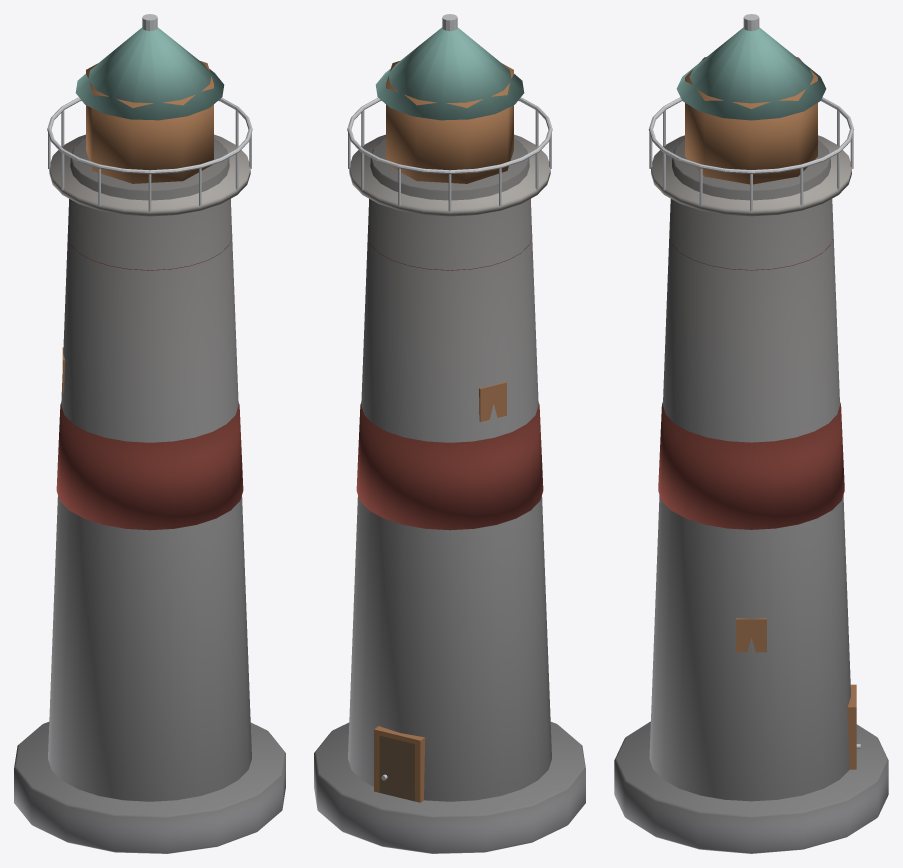
The model's file is LL_Lighthouse_Tower.fbx.
3 views of the same model, side by side, from view 1: azimuth 30°, elevation 25°; view 2: azimuth 150°, elevation 25°; view 3: azimuth 270°, elevation 25° (orthographic).
Visible parts, largest first — view 1: LL_Tower_White, LL_Lighthouse_Base, LL_Tower_RedBand, LL_Roof, LL_LensRoom_Frame, LL_Balcony_Floor, LL_Balcony_Rail_Top; view 2: LL_Tower_White, LL_Lighthouse_Base, LL_Tower_RedBand, LL_Roof, LL_LensRoom_Frame, LL_Balcony_Floor, LL_Door, LL_Balcony_Rail_Top, LL_Door_Frame, LL_Window_1_Frame; view 3: LL_Tower_White, LL_Lighthouse_Base, LL_Tower_RedBand, LL_Roof, LL_LensRoom_Frame, LL_Balcony_Floor, LL_Balcony_Rail_Top, LL_Window_0_Frame, LL_Door_Frame.
Part boxes in pixels (<box>): LL_Tower_White: <box>48,138,251,801</box>; LL_Lighthouse_Base: <box>14,722,285,853</box>; LL_Tower_RedBand: <box>56,403,243,530</box>; LL_Roof: <box>75,27,224,120</box>; LL_LensRoom_Frame: <box>86,61,213,183</box>; LL_Balcony_Floor: <box>49,134,250,216</box>; LL_Balcony_Rail_Top: <box>47,97,252,174</box>; LL_Tower_White: <box>348,138,551,801</box>; LL_Lighthouse_Base: <box>314,722,585,853</box>; LL_Tower_RedBand: <box>356,403,543,530</box>; LL_Roof: <box>375,27,524,120</box>; LL_LensRoom_Frame: <box>386,61,513,183</box>; LL_Balcony_Floor: <box>349,134,550,216</box>; LL_Door: <box>379,736,414,801</box>; LL_Balcony_Rail_Top: <box>347,97,552,174</box>; LL_Door_Frame: <box>374,726,425,802</box>; LL_Window_1_Frame: <box>479,381,506,421</box>; LL_Tower_White: <box>649,140,850,801</box>; LL_Lighthouse_Base: <box>614,721,888,853</box>; LL_Tower_RedBand: <box>658,402,844,529</box>; LL_Roof: <box>676,27,826,120</box>; LL_LensRoom_Frame: <box>685,57,817,184</box>; LL_Balcony_Floor: <box>651,135,851,216</box>; LL_Balcony_Rail_Top: <box>648,97,854,173</box>; LL_Window_0_Frame: <box>736,618,766,652</box>; LL_Door_Frame: <box>847,684,856,769</box>.
Bounding box in the file's own units: 6.4 × 20.1 × 6.4.
